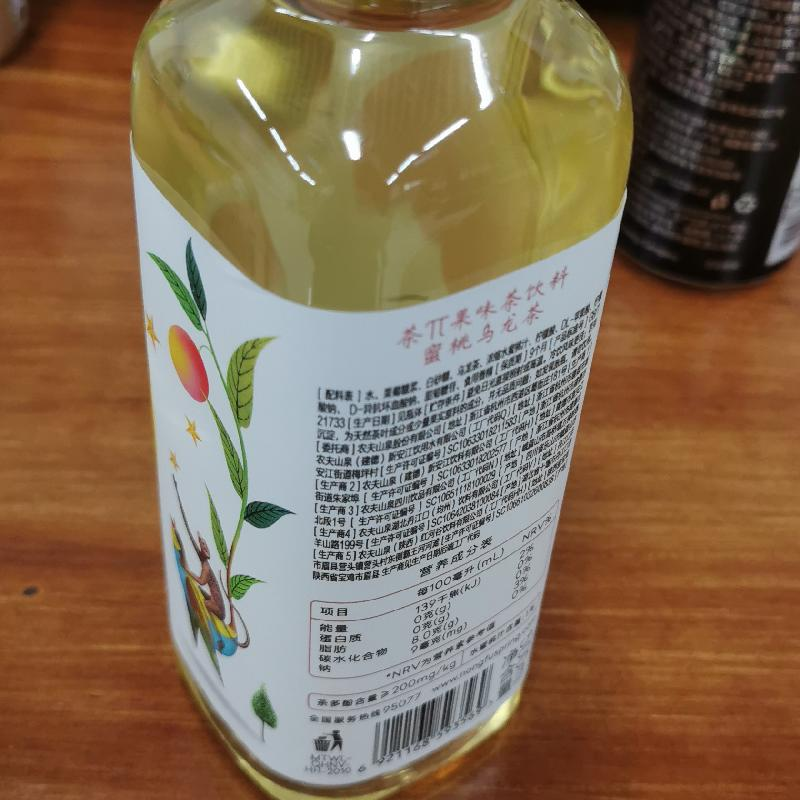bottles: (121, 4, 640, 799)
